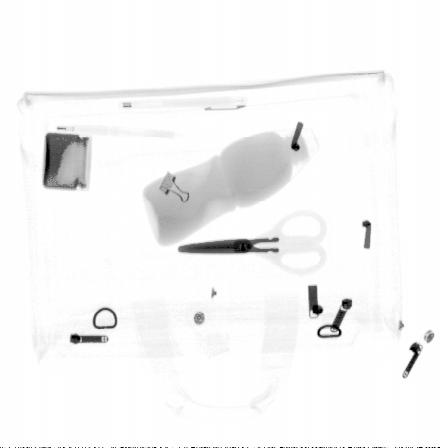Scissors: (176, 212, 326, 277)
